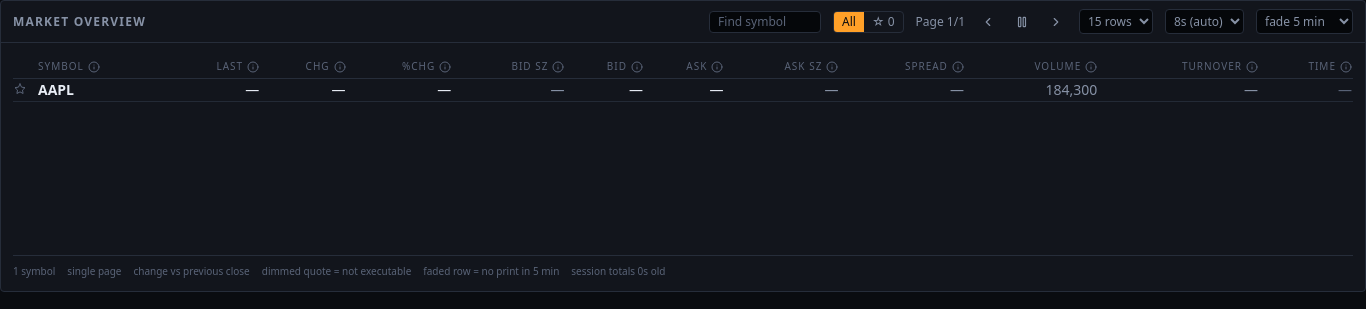
watchlist › explains an empty watchlist rather than showing a blank grid
The image size is (1366, 309).
Click the button "☆ 0" at (883, 22), box left=864, top=12, right=902, bottom=32
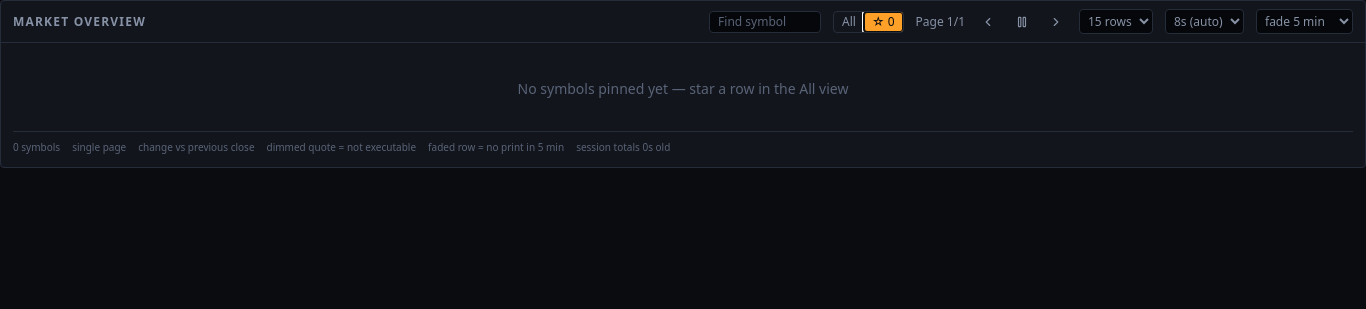
Check: the text "No symbols pinned yet — star a row in the All view" is shown, box left=518, top=79, right=848, bottom=98
